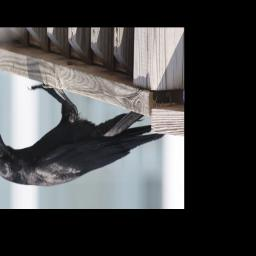Crow: (0, 84, 166, 188)
